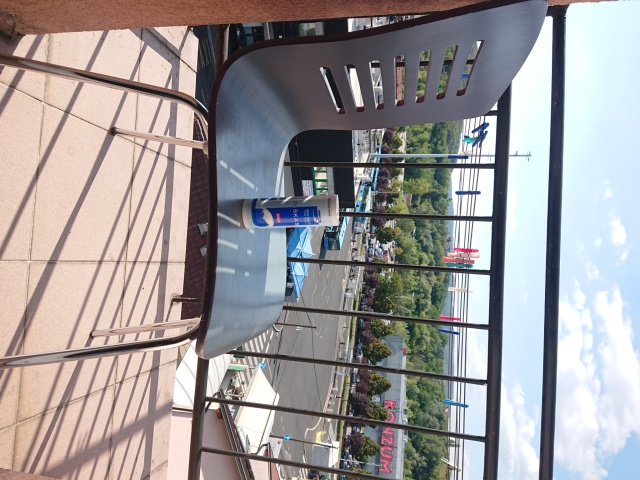Solana Pag Fine Sea Salt 250g: (240, 193, 342, 231)
